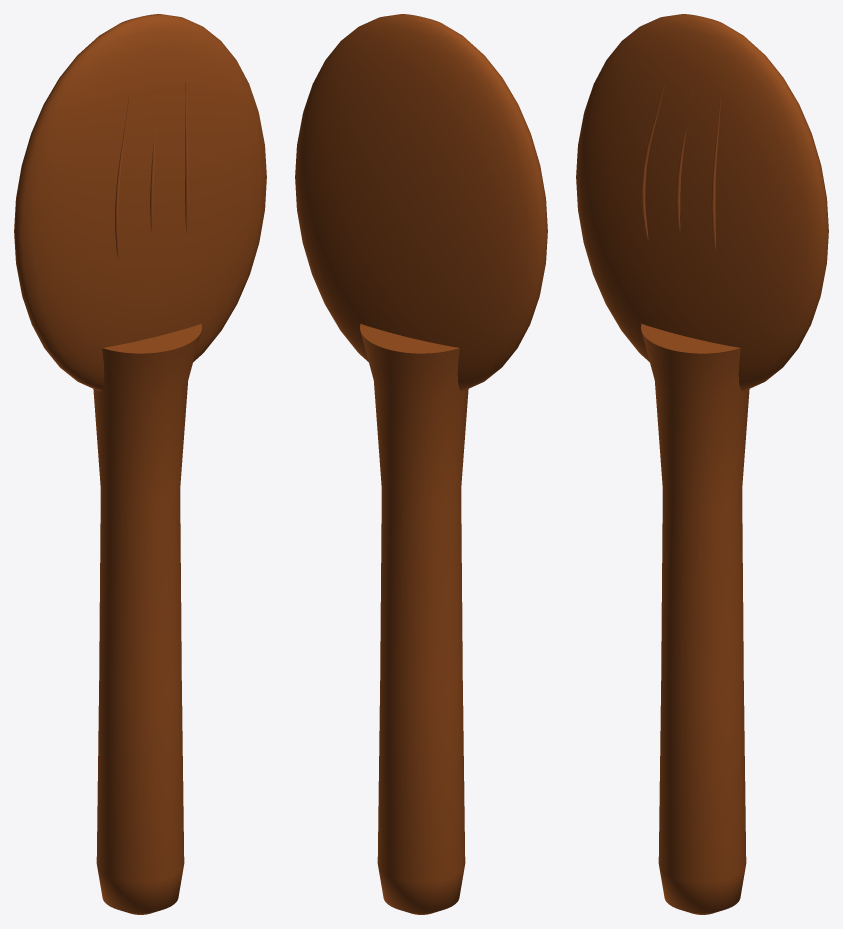
The model's file is Oversized_Rice_Paddle.obj.
3 views of the same model, side by side, from view 1: azimuth 30°, elevation 25°; view 2: azimuth 150°, elevation 25°; view 3: azimuth 330°, elevation 25° (orthographic).
Visible parts, largest first — view 1: Wide_paddle_blade, Paddle_handle, Inset_wood_grain; view 2: Wide_paddle_blade, Paddle_handle; view 3: Wide_paddle_blade, Paddle_handle, Inset_wood_grain.
Part boxes in pixels (x1,y1,x2,y2): Wide_paddle_blade: (14, 14, 266, 391); Paddle_handle: (93, 324, 201, 914); Inset_wood_grain: (115, 96, 129, 259); Wide_paddle_blade: (295, 14, 547, 391); Paddle_handle: (360, 324, 468, 914); Wide_paddle_blade: (576, 14, 828, 391); Paddle_handle: (641, 324, 749, 914); Inset_wood_grain: (641, 84, 664, 240).
Bounding box in the file's own units: 0.358 × 1.21 × 0.152.
